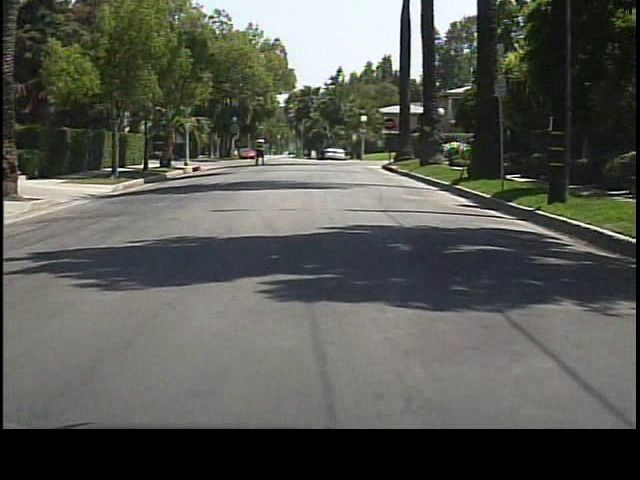person: (253, 136, 267, 168)
